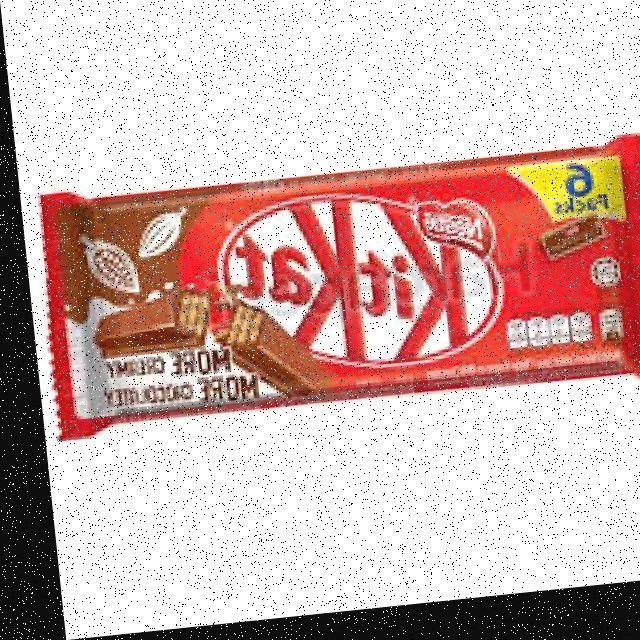kitkat_chocolate: (55, 143, 633, 442)
